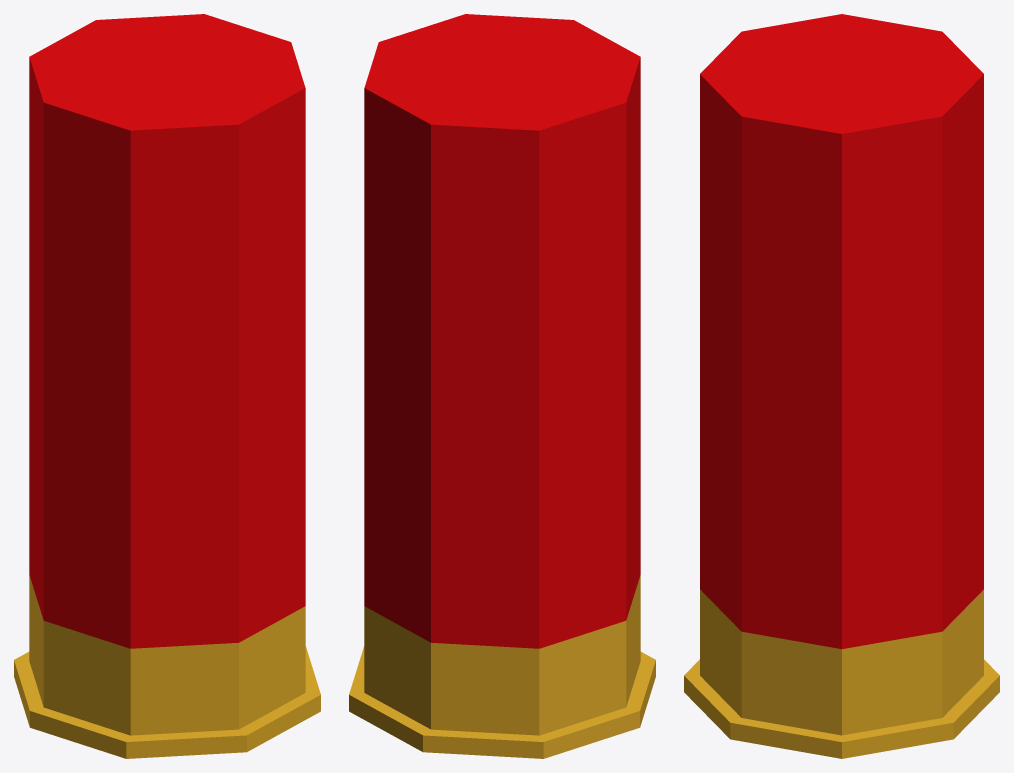
Rendered from ShotgunShell.fbx.
3 renders of one model, left to right at view 1: azimuth 30°, elevation 25°; view 2: azimuth 150°, elevation 25°; view 3: azimuth 270°, elevation 25°, orthographic.
Visible parts, largest first — view 1: Shotgun Shell; view 2: Shotgun Shell; view 3: Shotgun Shell.
Part boxes in pixels (x1,y1,x2,y2): Shotgun Shell: (14,14,320,758); Shotgun Shell: (349,14,655,758); Shotgun Shell: (684,14,999,758).
Bounding box in the file's own units: 11.12 × 24 × 11.12.
